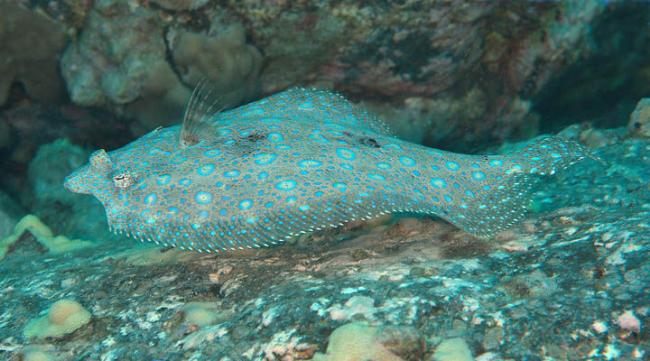fish: (64, 80, 549, 251)
